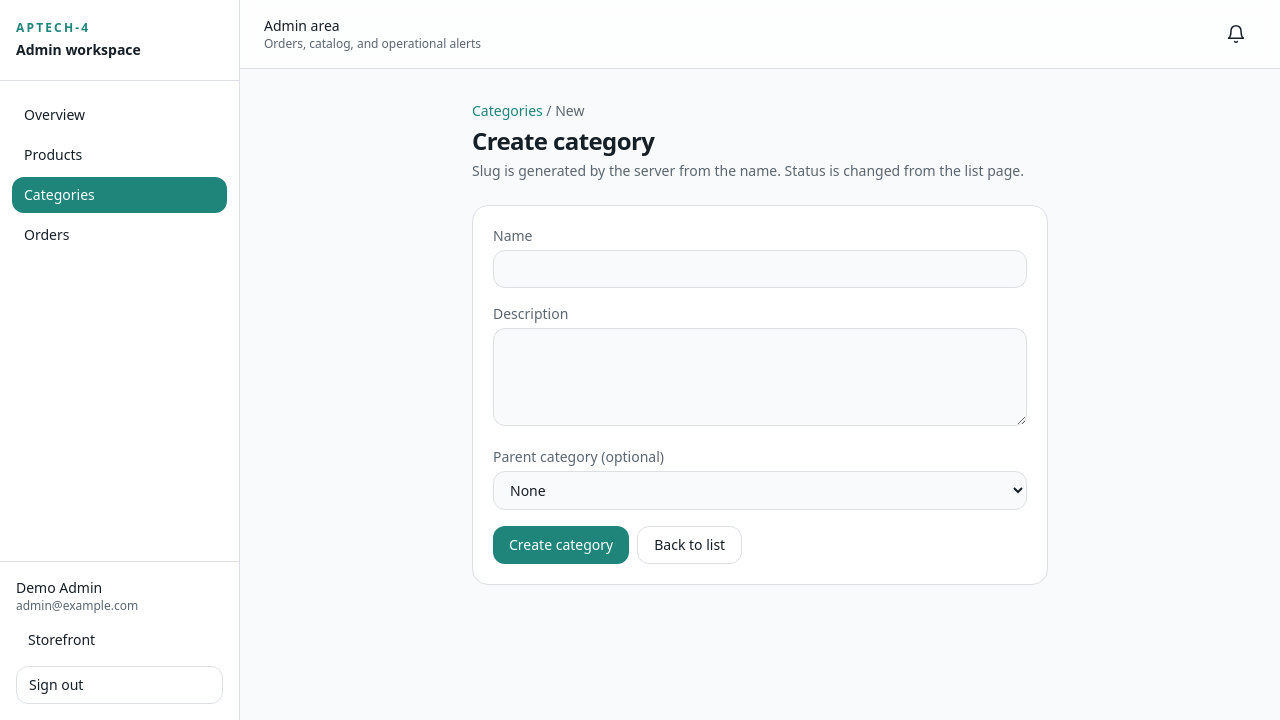
Scenario: Admin category pages › creates a category with the supported payload and handles duplicate conflict
Expected: the heading "Create category" is shown, [472, 124, 654, 157]
Click the button "Create category": (561, 545) [493, 526, 629, 564]
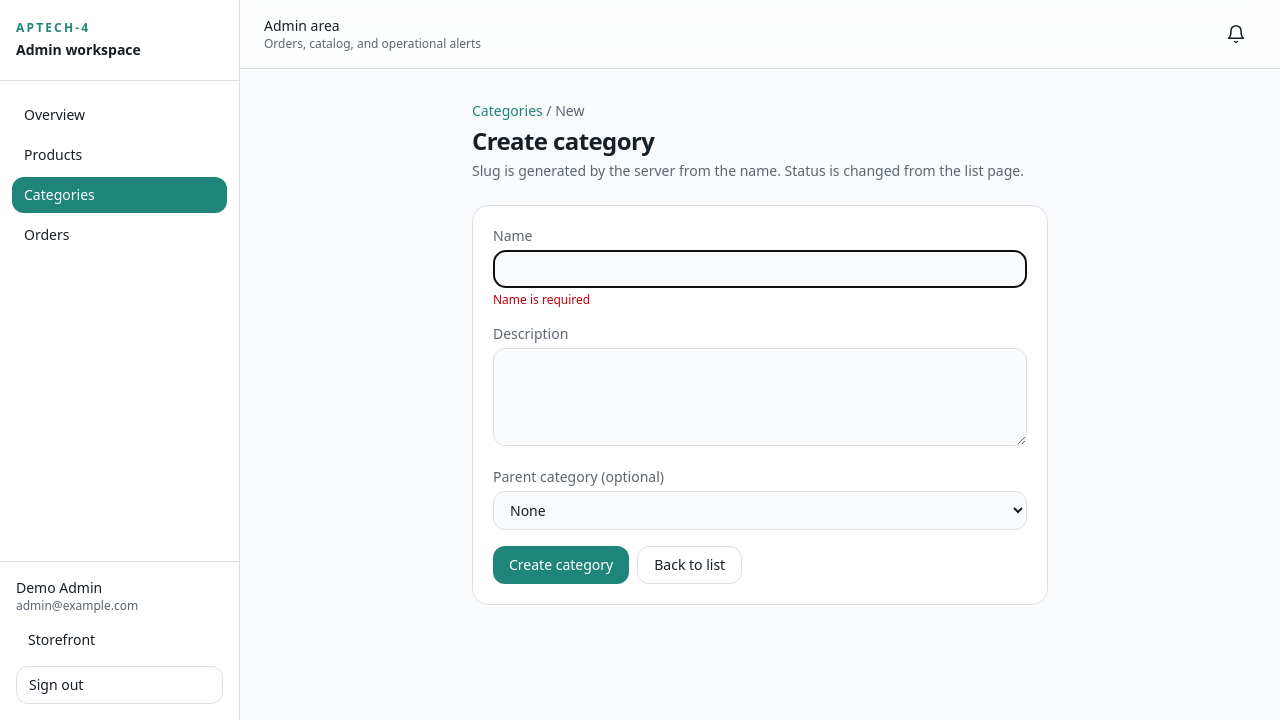
Expected: the text "Name is required" is shown, [493, 291, 590, 308]
In the field labelled "Name": (760, 269) [493, 250, 1027, 288], type "Electronics"
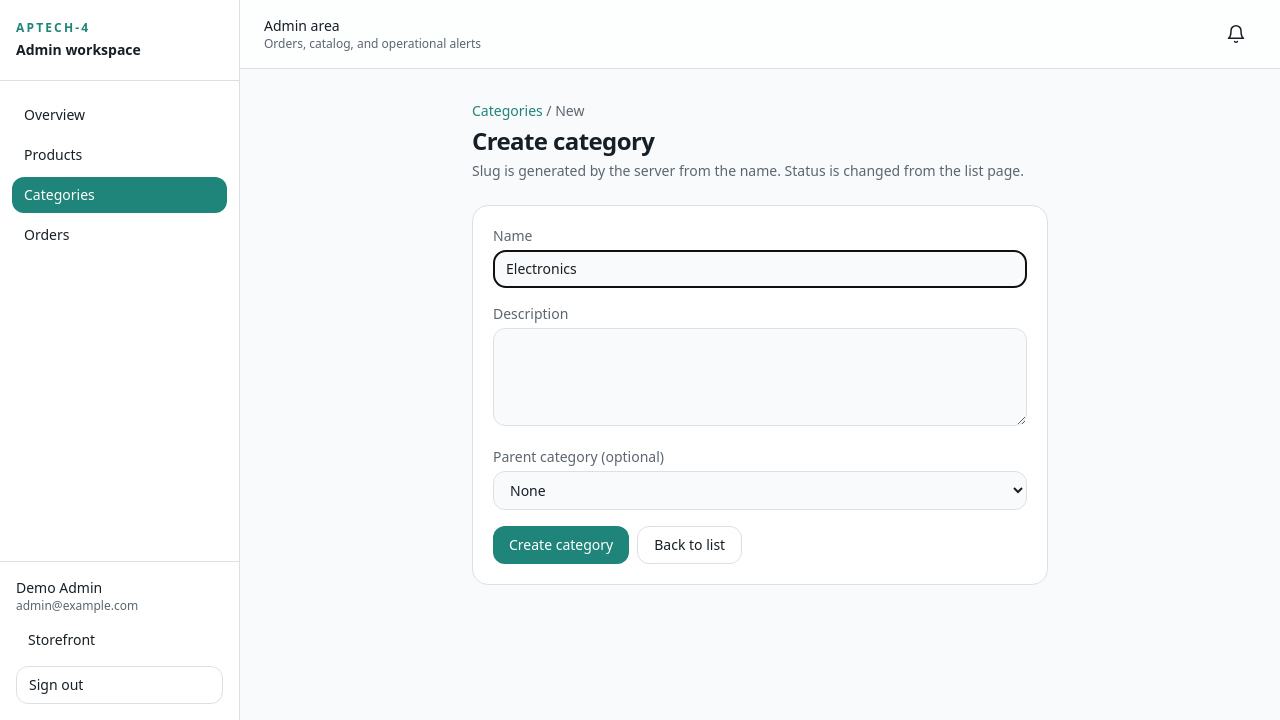
Click the button "Create category": (561, 545) [493, 526, 629, 564]
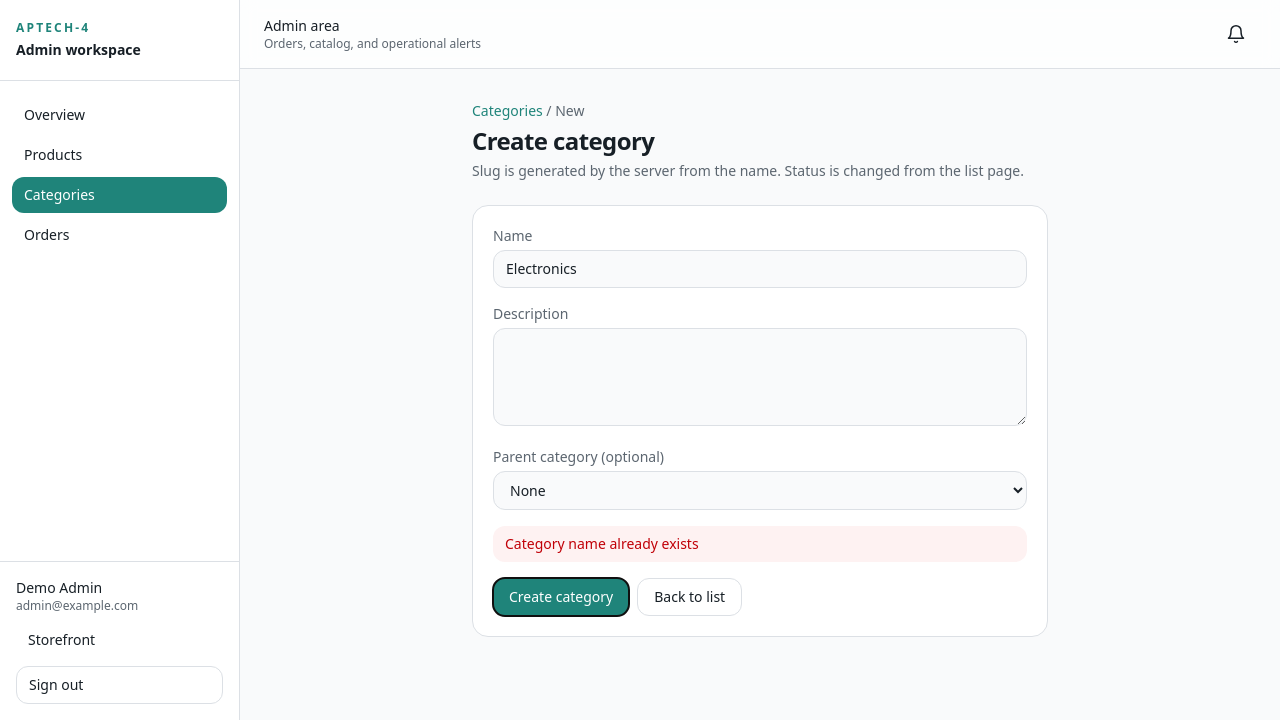
Expected: the message shows "already exists", [505, 534, 699, 553]
Click the button "Create category": (561, 597) [493, 578, 629, 616]
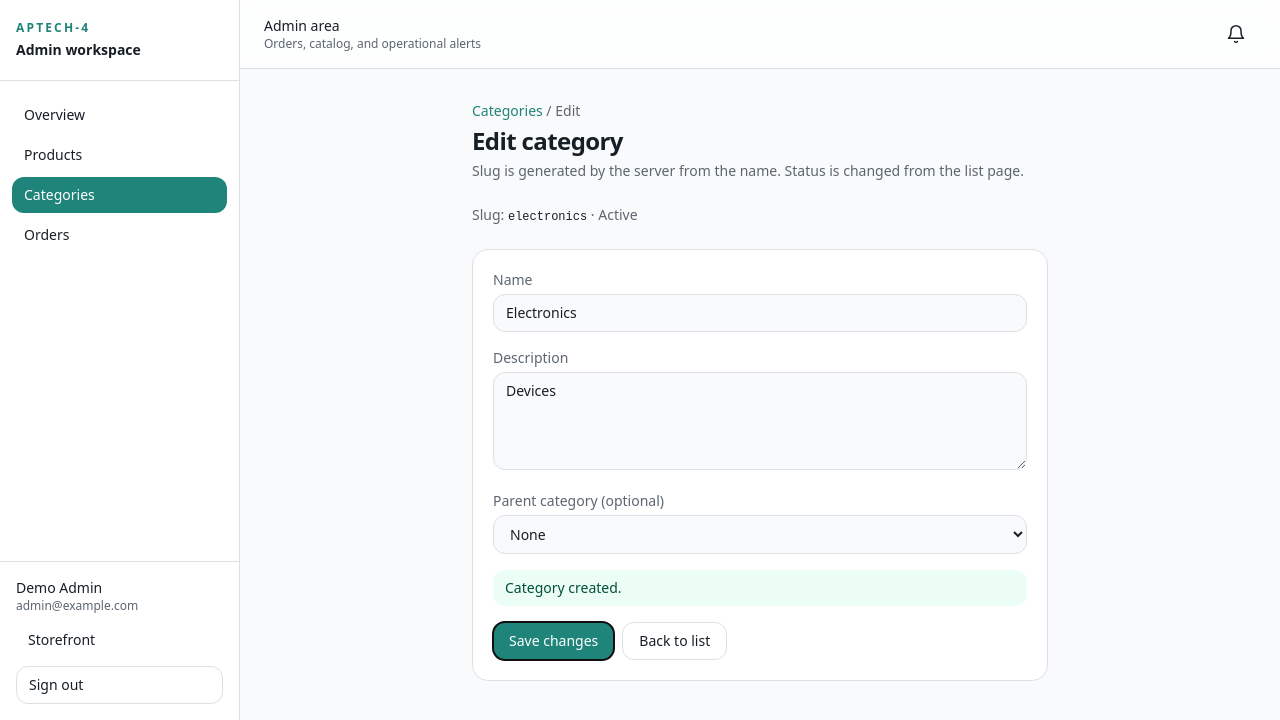
Expected: the heading "Edit category" is shown, [472, 124, 623, 157]
